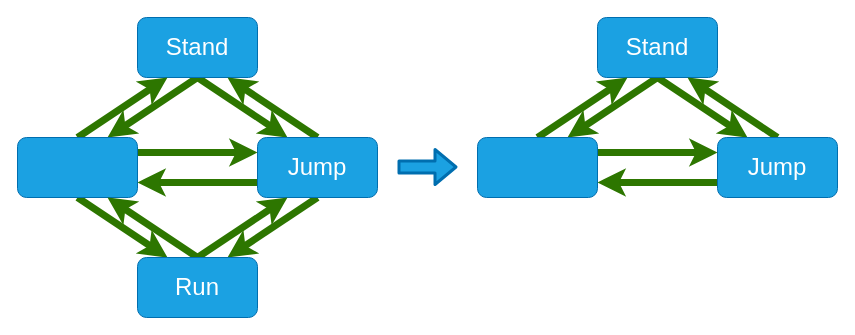
The diagram is 855 pixels wide and 335 high, and some of its shapes have lost their labels. Each missing label, with the centre of its shape:
"Moving" goes at point 537,167.
"Walk" goes at point 77,167.
